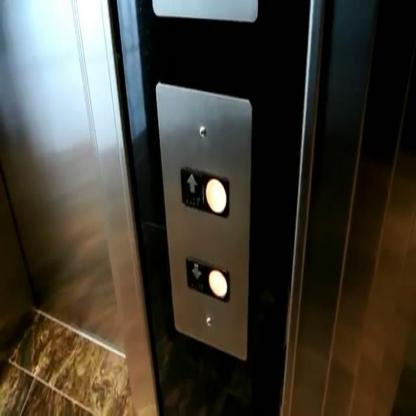down: (184, 251, 231, 305)
up: (178, 161, 230, 221)
